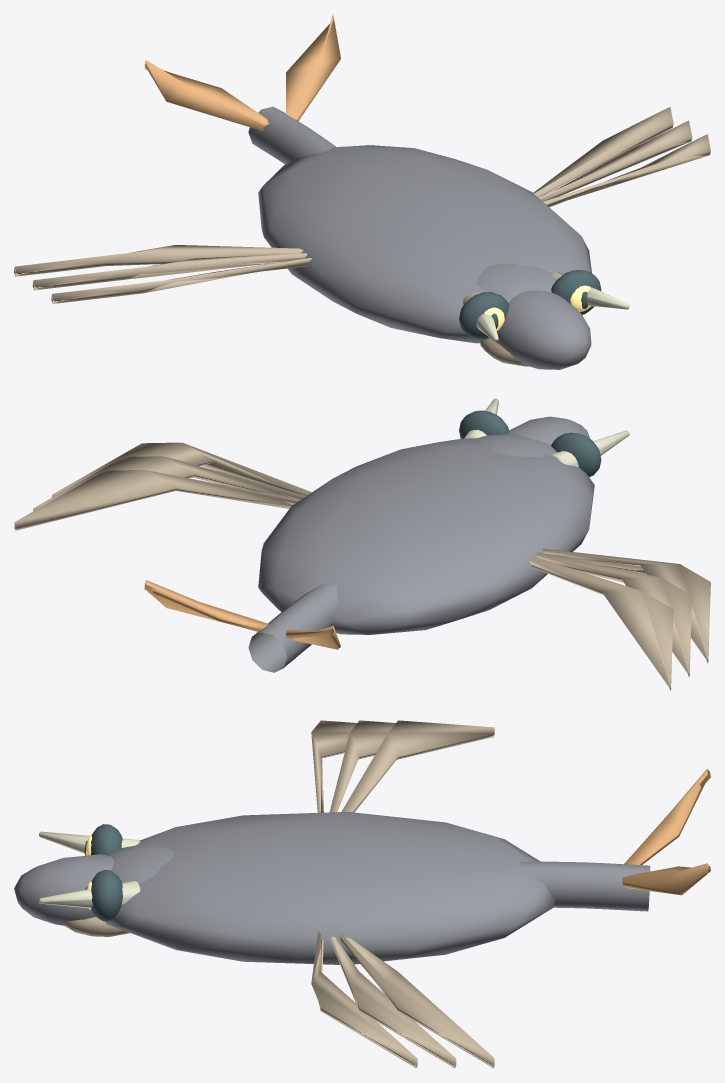
Rendered from bio_ray_20_far.glb.
3 renders of one model, top to bottom at view 1: azimuth 30°, elevation 25°; view 2: azimuth 150°, elevation 25°; view 3: azimuth 270°, elevation 25°, orthographic. The views are drawn at different scales.
Visible parts, largest first — view 1: Hydrodynamic mantle, Flexible fin lobe, Cranium, Flexible fin lobe.003, Caudal fin, Tail stalk, Protected orbit, Forward cheek tine; view 2: Hydrodynamic mantle, Flexible fin lobe, Flexible fin lobe.003, Tail stalk, Caudal fin, Cranium, Protected orbit, Forward cheek tine; view 3: Hydrodynamic mantle, Flexible fin lobe.003, Flexible fin lobe, Cranium, Tail stalk, Caudal fin, Protected orbit, Forward cheek tine, Lower mandible.
Boxes of the visible parts, box(x1,y1,x2,y2) form: Hydrodynamic mantle: box(258, 145, 591, 343); Flexible fin lobe: box(14, 245, 311, 304); Cranium: box(475, 263, 591, 369); Flexible fin lobe.003: box(533, 107, 710, 207); Caudal fin: box(144, 14, 340, 131); Tail stalk: box(248, 106, 336, 164); Protected orbit: box(459, 270, 601, 338); Forward cheek tine: box(463, 272, 629, 341); Hydrodynamic mantle: box(258, 438, 594, 634); Flexible fin lobe: box(528, 548, 710, 690); Flexible fin lobe.003: box(14, 442, 311, 531); Tail stalk: box(248, 584, 338, 672); Caudal fin: box(144, 580, 340, 649); Cranium: box(474, 416, 590, 456); Protected orbit: box(459, 410, 601, 477); Forward cheek tine: box(464, 398, 629, 467); Hydrodynamic mantle: box(105, 812, 555, 964); Flexible fin lobe.003: box(311, 932, 494, 1068); Flexible fin lobe: box(311, 720, 494, 812); Cranium: box(14, 843, 173, 925); Tail stalk: box(520, 861, 650, 911); Caudal fin: box(622, 768, 710, 895); Protected orbit: box(84, 824, 122, 921); Forward cheek tine: box(38, 831, 140, 908); Lower mandible: box(65, 917, 129, 936).
Bounding box in the file's own units: 4.06 × 0.6648 × 3.61.
